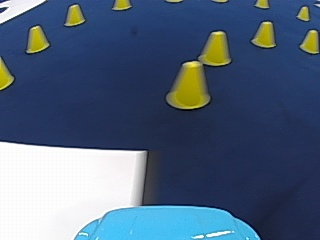cone: (167, 60, 210, 109), (199, 30, 232, 66), (25, 24, 49, 53), (251, 20, 276, 47), (0, 56, 14, 89), (64, 3, 84, 26), (300, 29, 318, 53), (296, 5, 309, 21), (113, 0, 130, 10), (255, 0, 268, 9)
